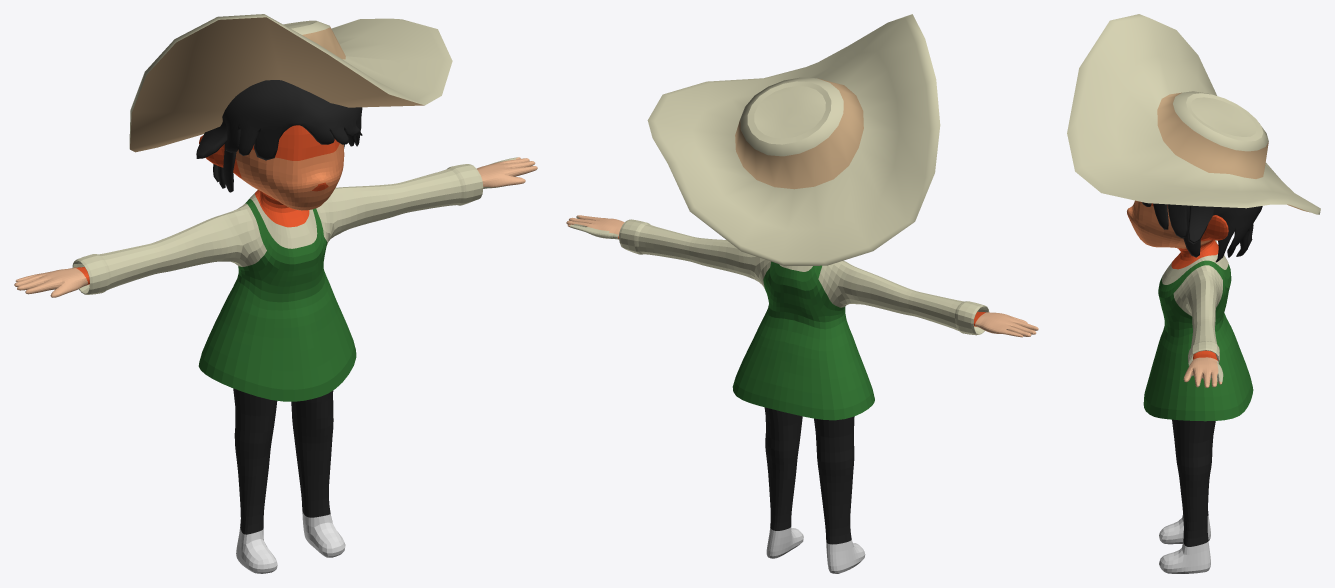
The model's file is fbx_rg_gardener_v4.fbx.
The picture shows the model from 3 angles, left to right: view 1: azimuth 30°, elevation 25°; view 2: azimuth 150°, elevation 25°; view 3: azimuth 270°, elevation 25°; orthographic projection. The views are drawn at different scales.
Parts seen in each view (by area): view 1: md_gardener, rg_gardener_v1:obj_hat_v1:md_hat, rg_gardener_v1:obj_hairtop_v1:hair_top1; view 2: rg_gardener_v1:obj_hat_v1:md_hat, md_gardener; view 3: rg_gardener_v1:obj_hat_v1:md_hat, md_gardener, rg_gardener_v1:obj_hairtop_v1:hair_top1.
Part boxes in pixels (x1,y1,x2,y2): md_gardener: (14,125,537,573); rg_gardener_v1:obj_hat_v1:md_hat: (129,14,452,152); rg_gardener_v1:obj_hairtop_v1:hair_top1: (196,80,362,192); rg_gardener_v1:obj_hat_v1:md_hat: (647,14,940,265); md_gardener: (566,215,1038,573); rg_gardener_v1:obj_hat_v1:md_hat: (1067,14,1320,214); md_gardener: (1127,200,1253,573); rg_gardener_v1:obj_hairtop_v1:hair_top1: (1142,202,1262,262).
Bounding box in the file's own units: 159 × 172 × 77.89.
